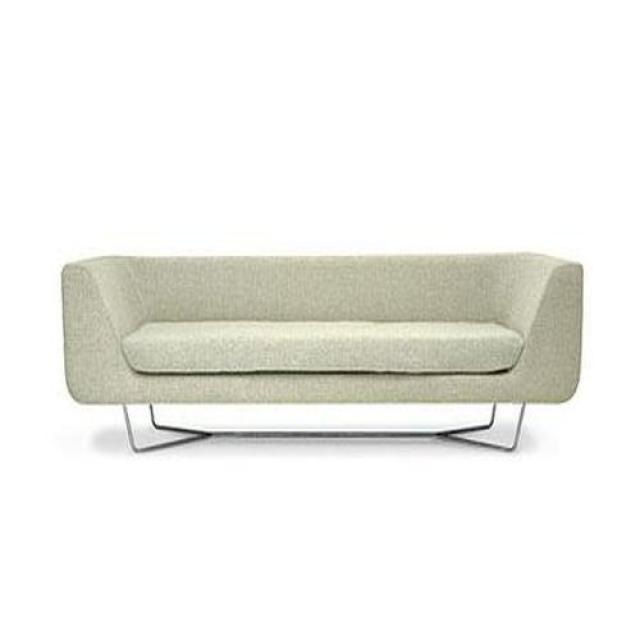sofa: (60, 252, 586, 454)
